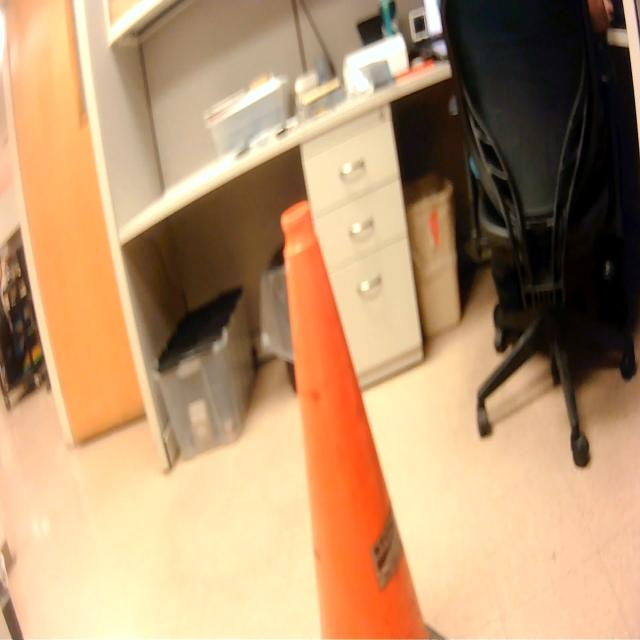traffic cone: (278, 194, 455, 640)
